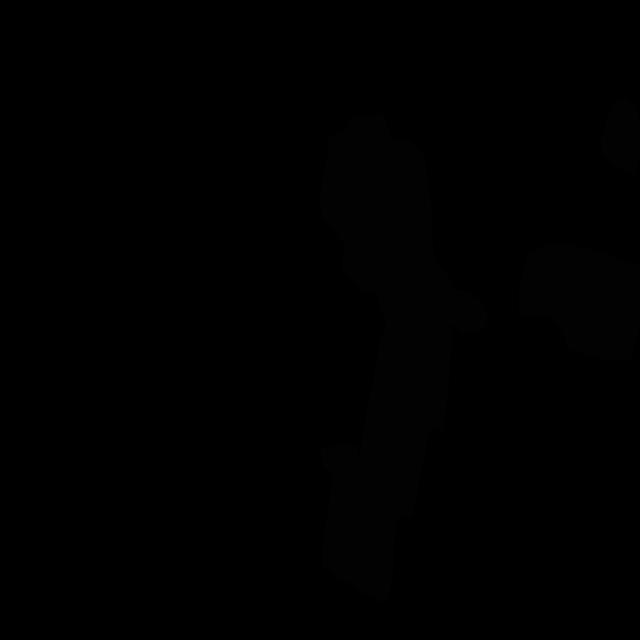cardboard: (320, 112, 487, 393), (320, 329, 448, 604), (518, 243, 640, 362), (601, 96, 640, 176)
